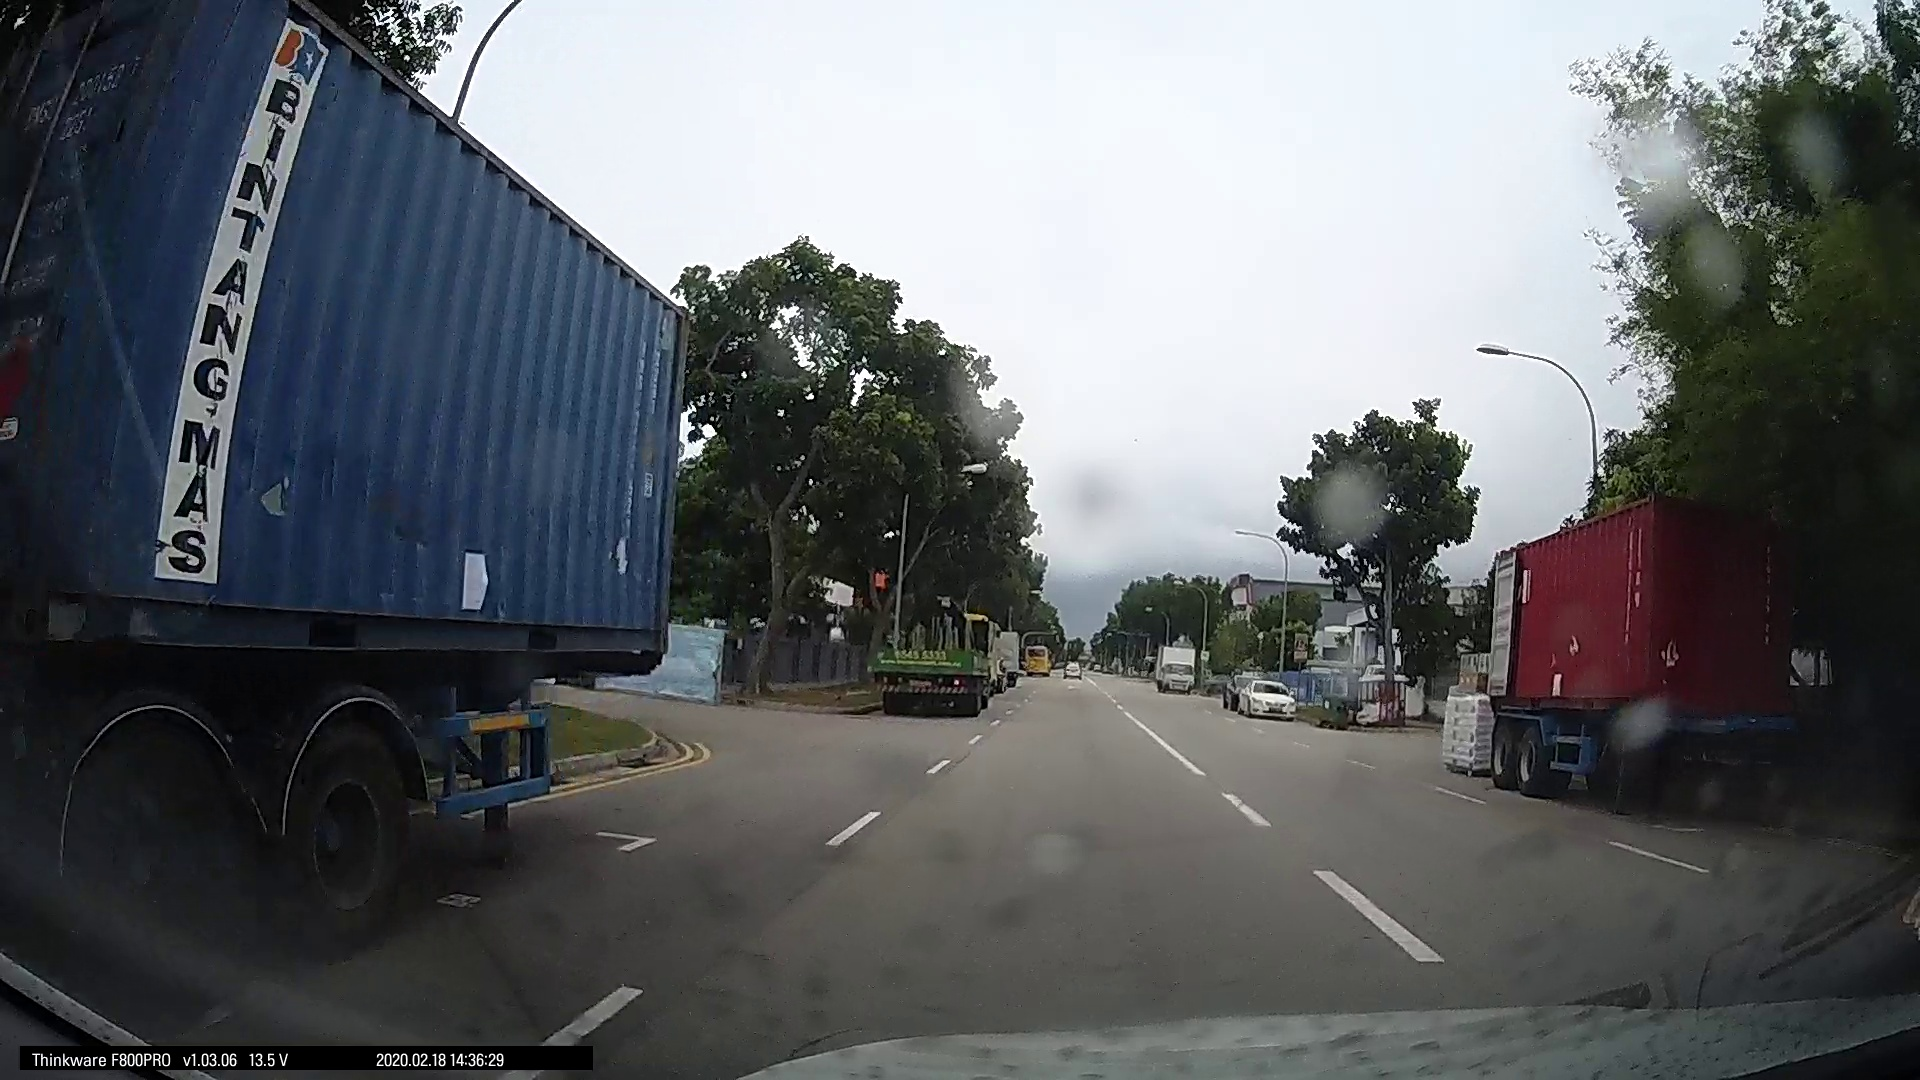Heavy Vehicle: (7, 1, 669, 976), (1472, 481, 1844, 804)
Light Vehicle: (1224, 669, 1298, 721), (1153, 644, 1197, 692)
